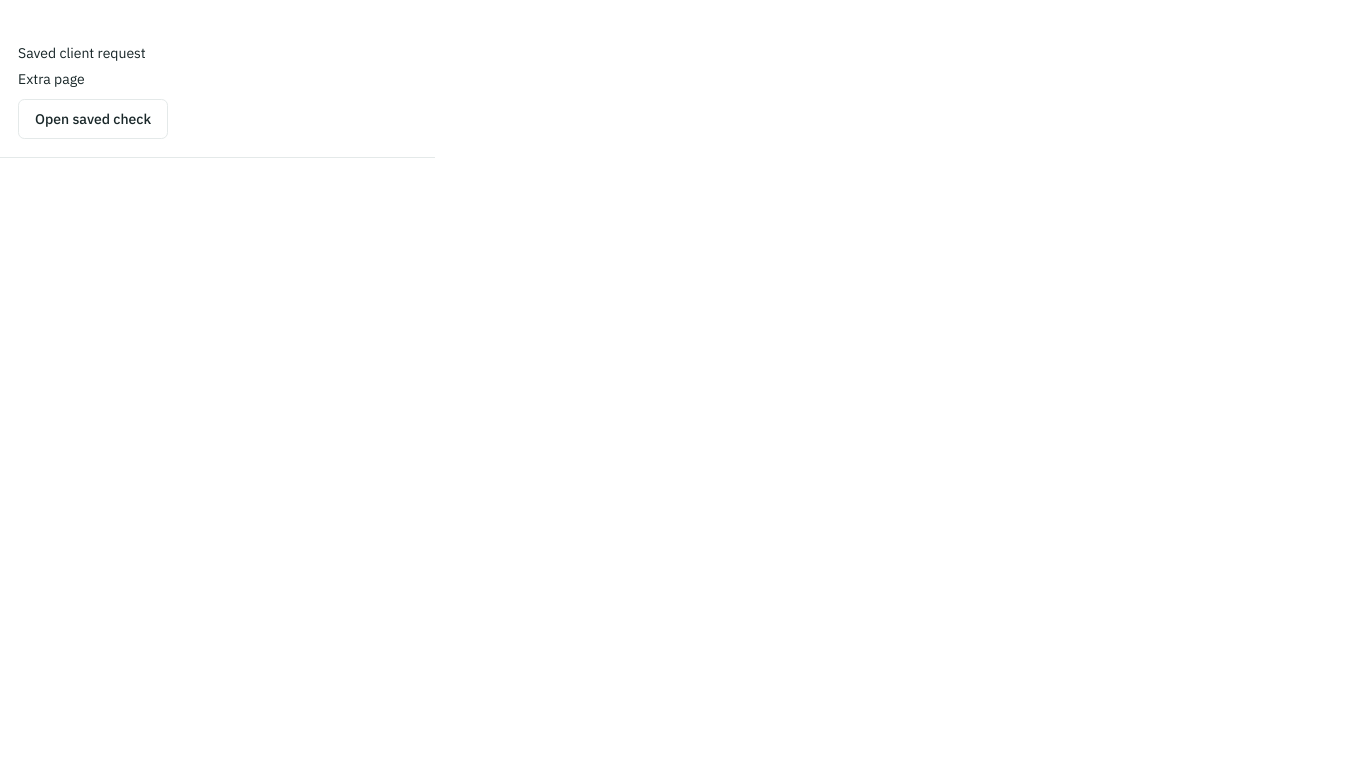
Test: renders the complete immutable assessment when history opens in en
The image size is (1366, 768).
Click the button "Open saved check" at (93, 119), box x1=18 y1=99 x2=168 y2=139
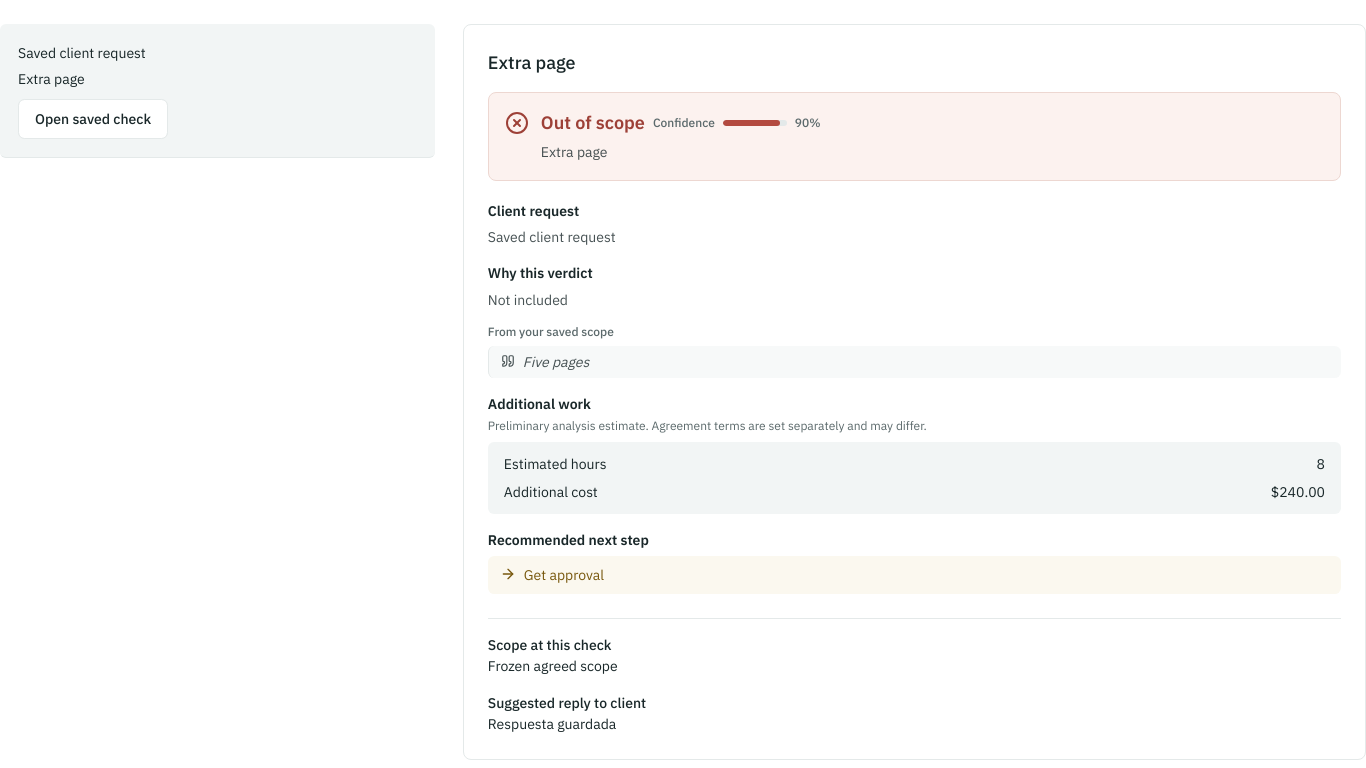
Expected: the text "Not included" is shown, x1=488 y1=291 x2=568 y2=309
Expected: the text "Five pages" is shown, x1=523 y1=352 x2=589 y2=372
Expected: the text "Get approval" is shown, x1=524 y1=564 x2=604 y2=586
